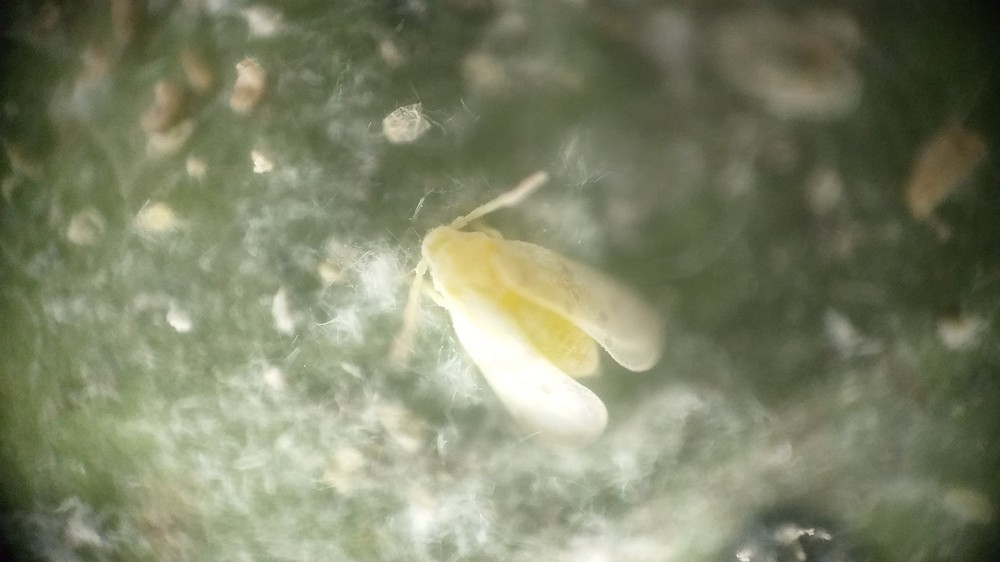Mosca Blanca: (362, 164, 687, 473)
